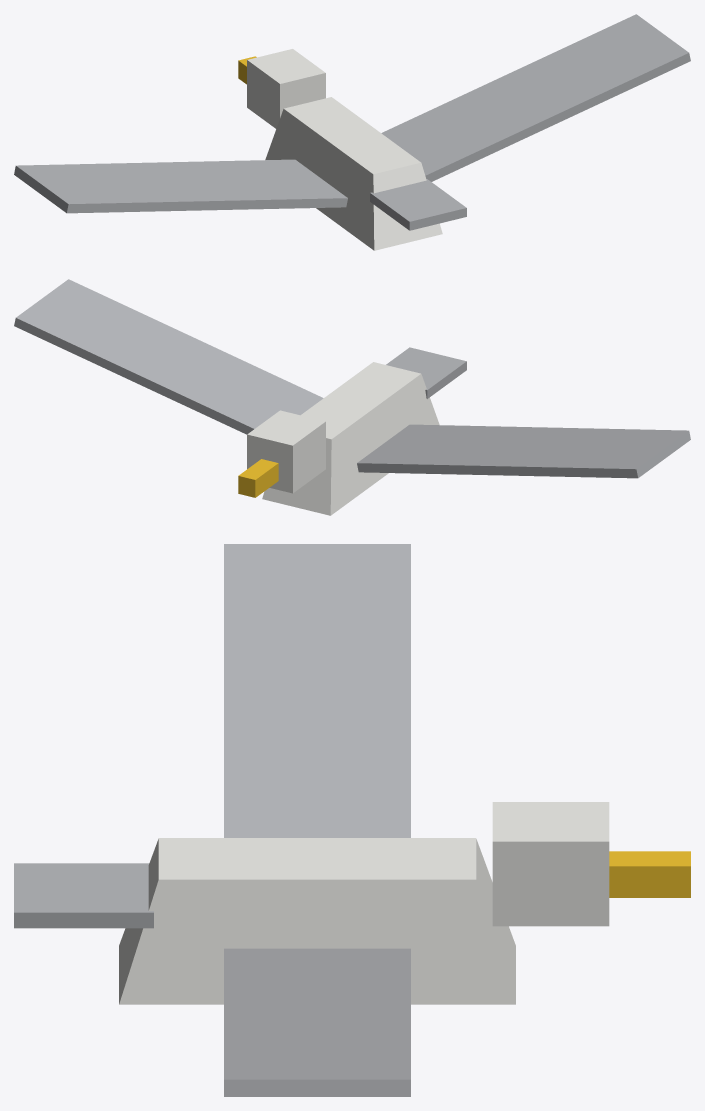
The model's file is animal_gull.glb.
3 views of the same model, one above another, from view 1: azimuth 30°, elevation 25°; view 2: azimuth 150°, elevation 25°; view 3: azimuth 270°, elevation 25° (orthographic). The views are drawn at different scales.
Visible parts, largest first — view 1: animal_gull__mesh; view 2: animal_gull__mesh; view 3: animal_gull__mesh.
Part boxes in pixels (box(x1,y1,x2,y2)): animal_gull__mesh: box(14, 14, 690, 250); animal_gull__mesh: box(14, 279, 690, 515); animal_gull__mesh: box(14, 544, 690, 1096).
Size of the model in its own units: 1.09 by 0.1543 by 0.58.
